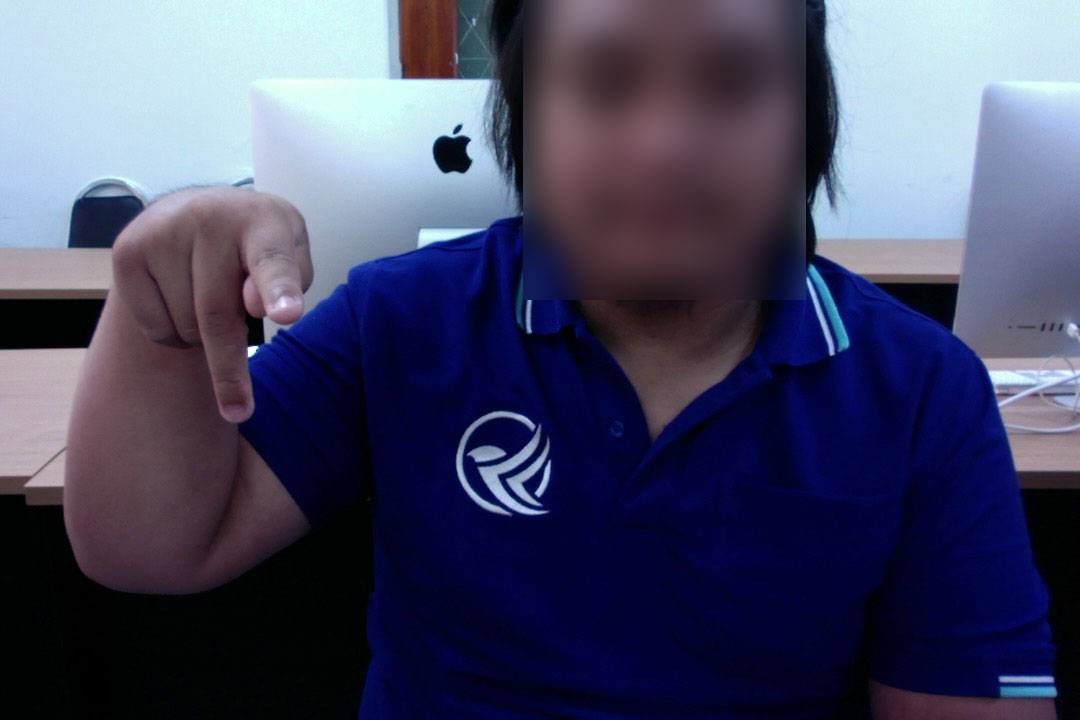por: (108, 178, 316, 425)
